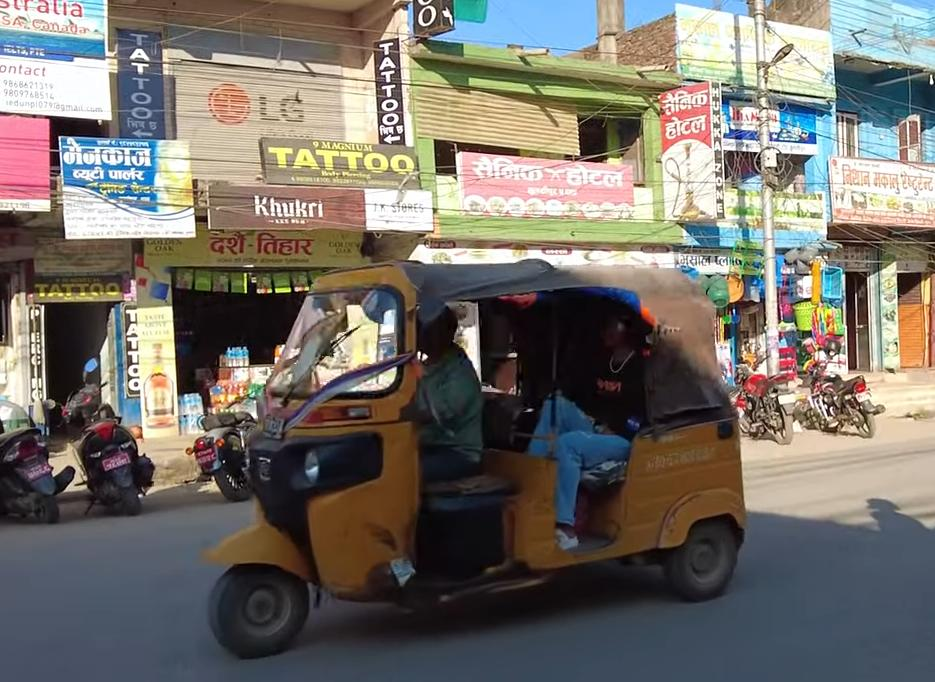auto_rickshaw: (200, 255, 761, 672)
bike: (804, 335, 885, 444), (187, 388, 258, 500), (733, 349, 802, 454)
scooter: (46, 355, 171, 519), (0, 412, 76, 532)
